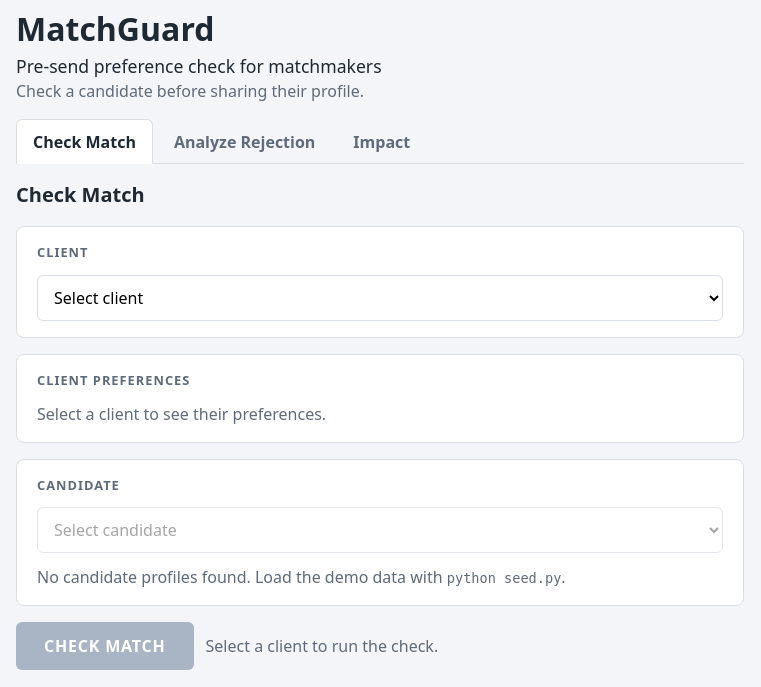
it: Impact mode › shows an error when analytics cannot be loaded
Click the tab "Impact": (382, 142) [336,119,427,164]
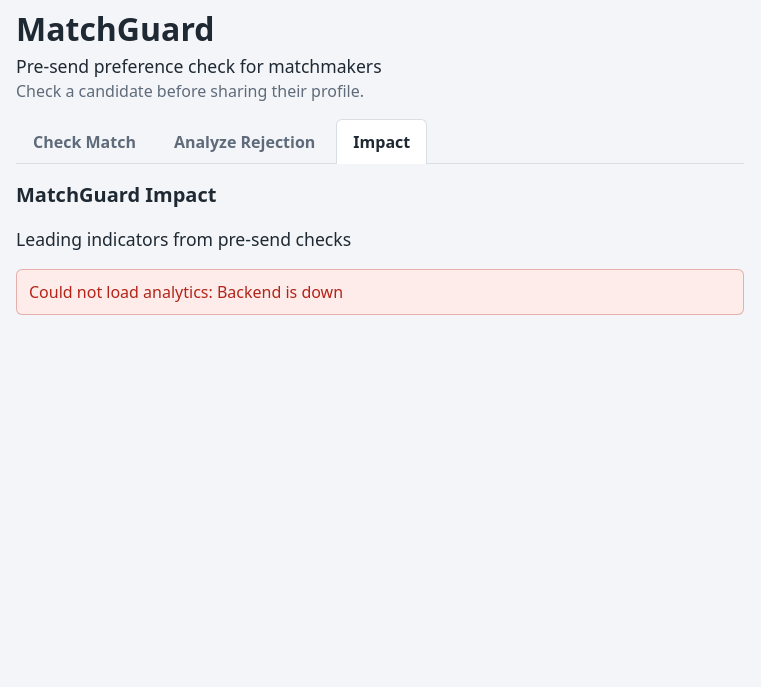
Expected: the text "Could not load analytics: Backend is down" is shown, [16,269,744,315]
